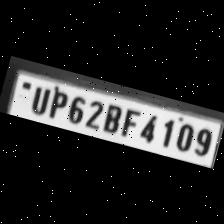0: (172, 118, 198, 153)
1: (155, 114, 179, 148)
2: (80, 94, 106, 130)
4: (136, 108, 163, 144)
6: (62, 90, 90, 125)
9: (188, 122, 216, 158)
B: (98, 98, 126, 134)
F: (117, 102, 144, 138)
P: (44, 84, 70, 120)
U: (25, 80, 52, 114)
